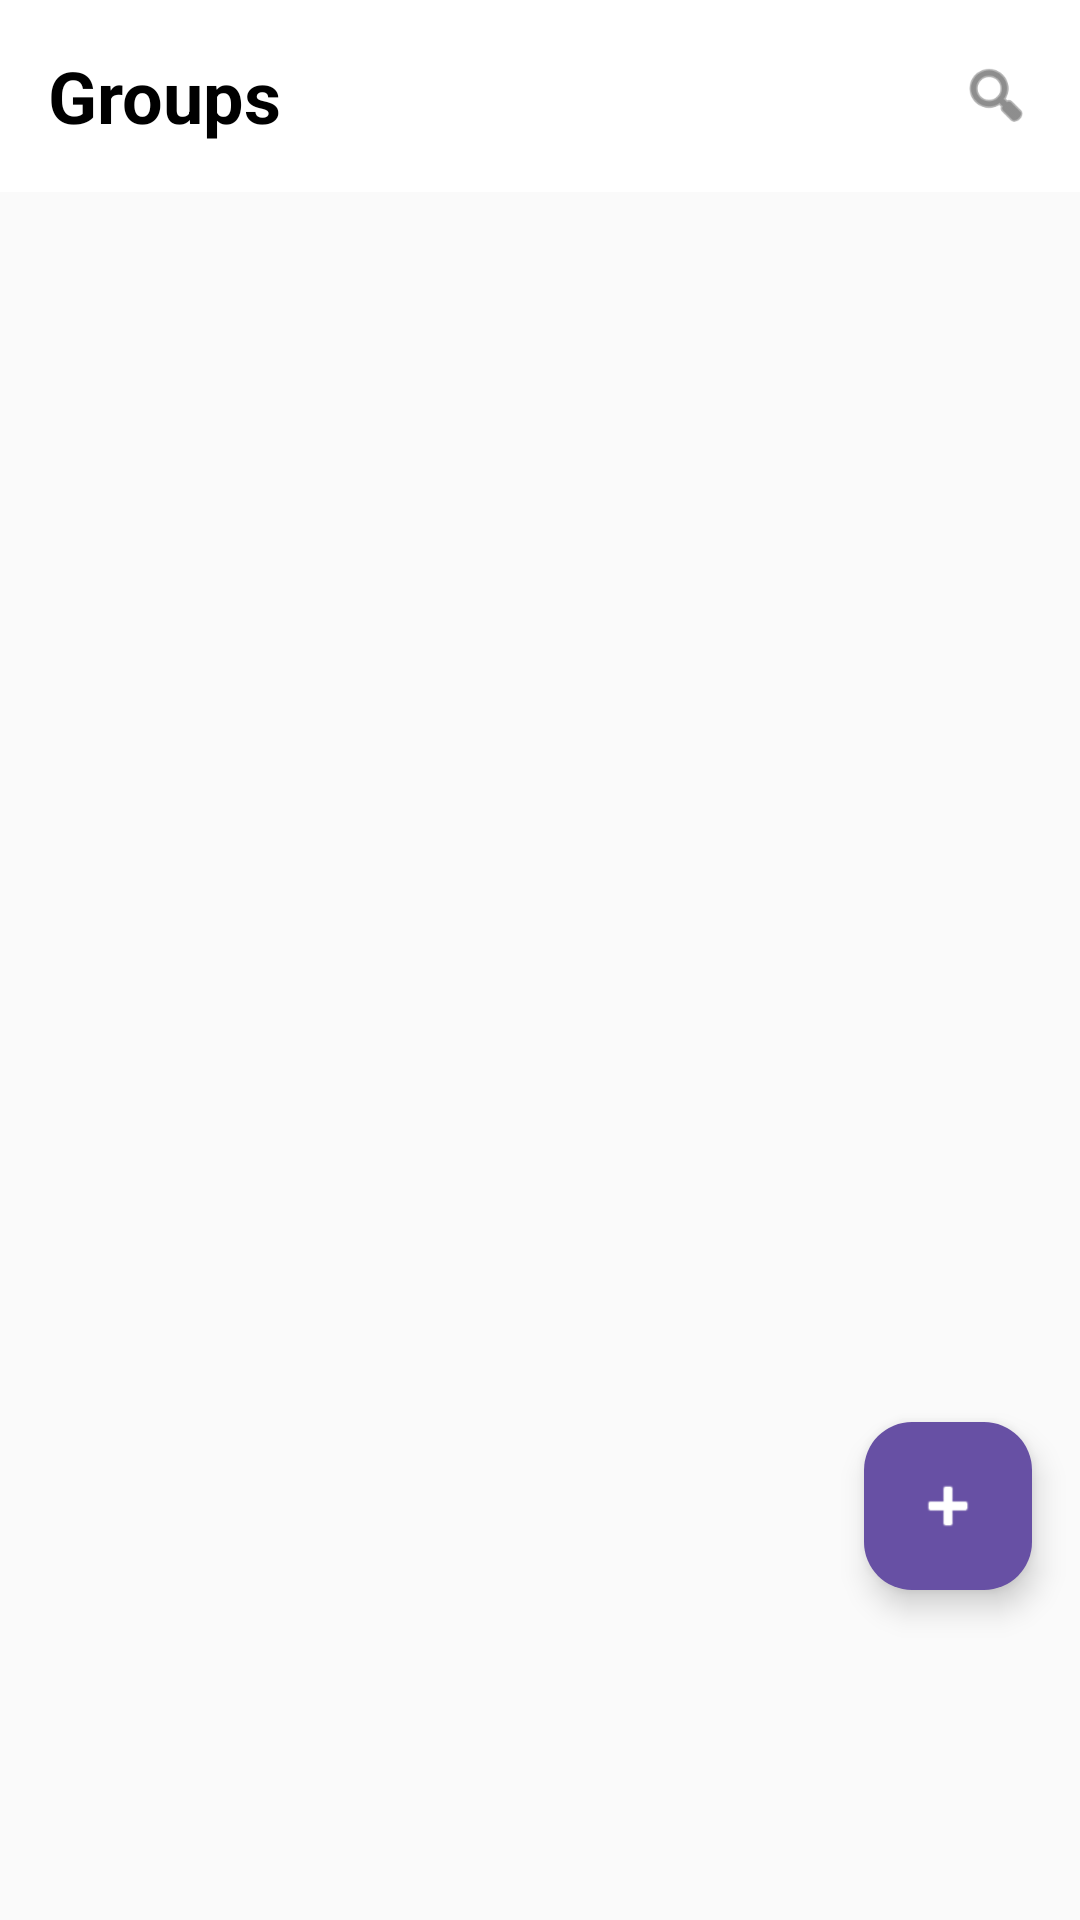

Icon click points for this 1080×1920 phone screenshot, format point (x, y):
add: point (948, 1506)
search: point (996, 95)
